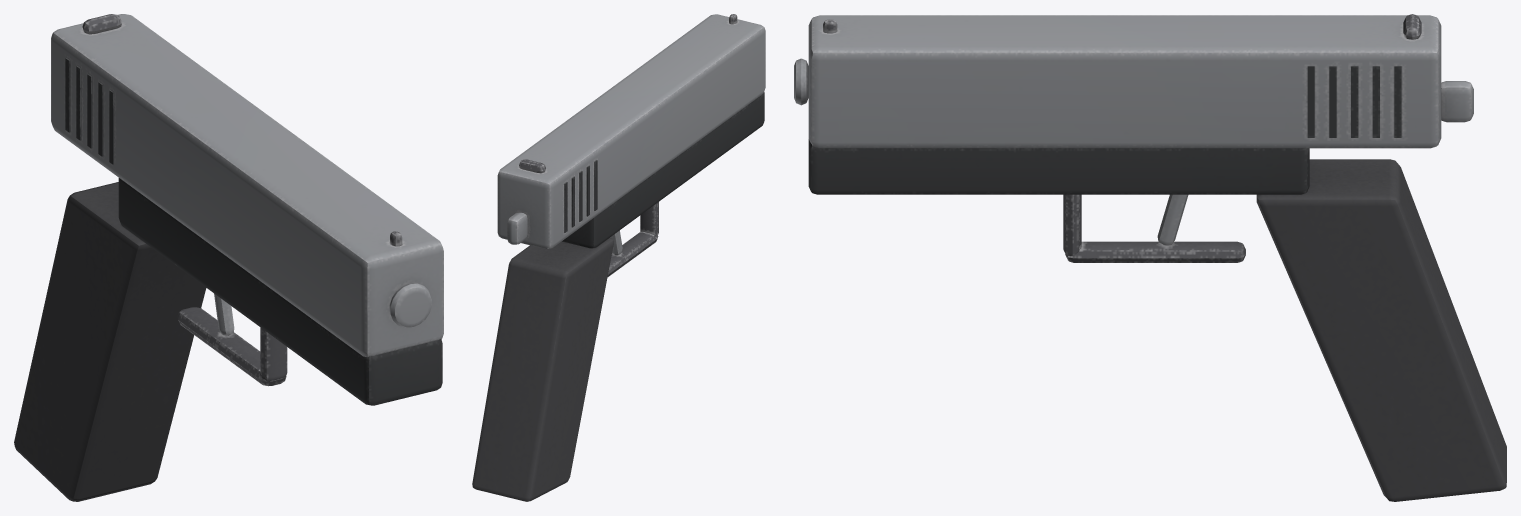
3 views of the same model, side by side, from view 1: azimuth 30°, elevation 25°; view 2: azimuth 150°, elevation 25°; view 3: azimuth 270°, elevation 25° (orthographic). The views are drawn at different scales.
Parts seen in each view (by area): view 1: p250; view 2: p250; view 3: p250.
Boxes of the visible parts, left/top/right/bottom form: p250: left=14, top=14, right=443, bottom=501; p250: left=472, top=14, right=765, bottom=501; p250: left=794, top=14, right=1506, bottom=501.
Size of the model in its own units: 0.028 by 0.1417 by 0.1971.
